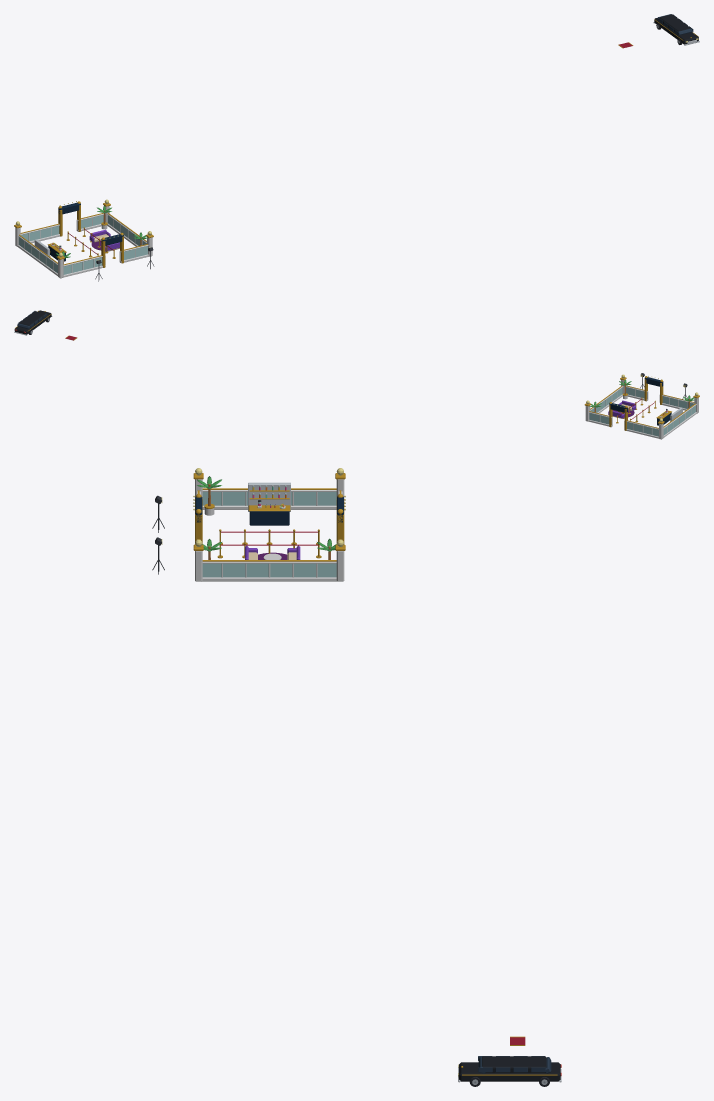
Rendered from skyport-vip.glb.
The picture shows the model from 3 angles, top to bottom: view 1: azimuth 30°, elevation 25°; view 2: azimuth 150°, elevation 25°; view 3: azimuth 270°, elevation 25°; orthographic projection. The views are drawn at different scales.
Parts seen in each view (by area): view 1: sp_vip_mesh, sp_limo_mesh; view 2: sp_vip_mesh, sp_limo_mesh; view 3: sp_vip_mesh, sp_limo_mesh.
Part boxes in pixels (<box>): sp_vip_mesh: <box>14,199,154,281</box>; sp_limo_mesh: <box>653,14,699,45</box>; sp_vip_mesh: <box>584,373,699,439</box>; sp_limo_mesh: <box>14,310,52,335</box>; sp_vip_mesh: <box>152,468,345,581</box>; sp_limo_mesh: <box>458,1056,561,1082</box>.
Bounding box in the file's own units: 89.17 × 3.53 × 26.57.
